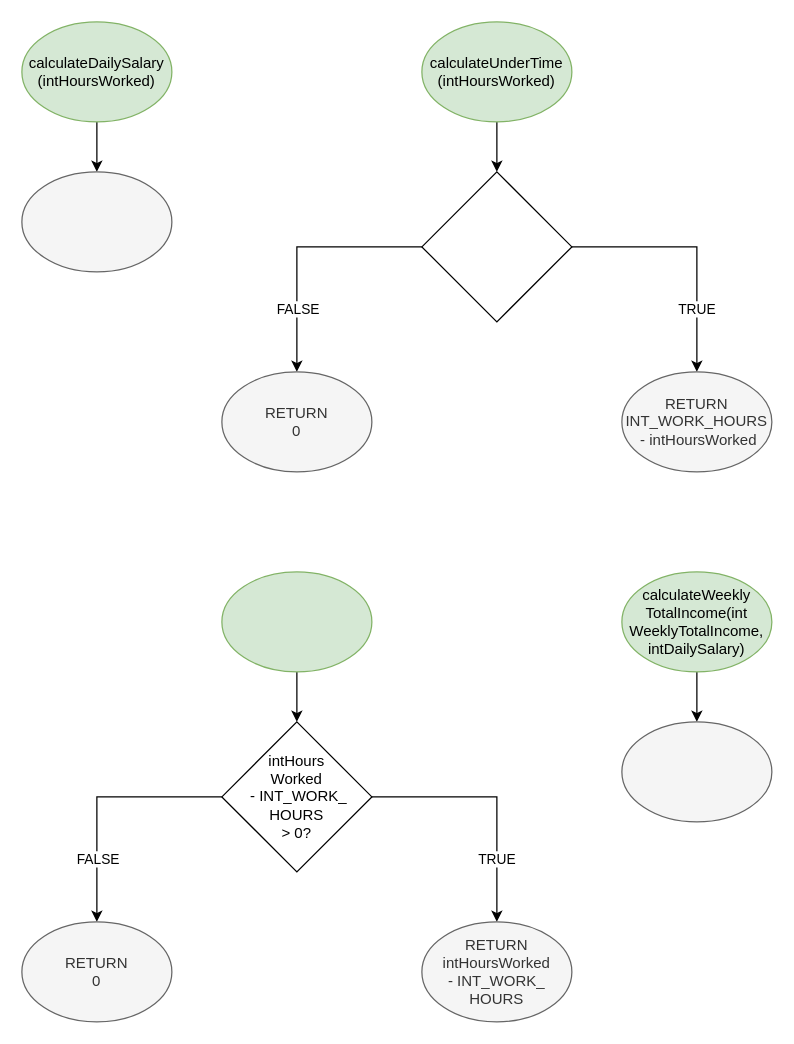
The diagram is 794 pixels wide and 1044 high, and some of its shapes have lost their labels. Each missing label, with the box of its shape:
calculateOverTime (intHoursWorked): (221, 571, 372, 672)
INT_ WORK_ HOURS - int HoursWorked > 0?: (421, 171, 572, 322)
RETURN intHoursWorked * INT_HOURLY _RATE: (21, 171, 172, 272)
RETURN intWeeklyTotal Income += int DailySalary: (621, 721, 772, 822)
